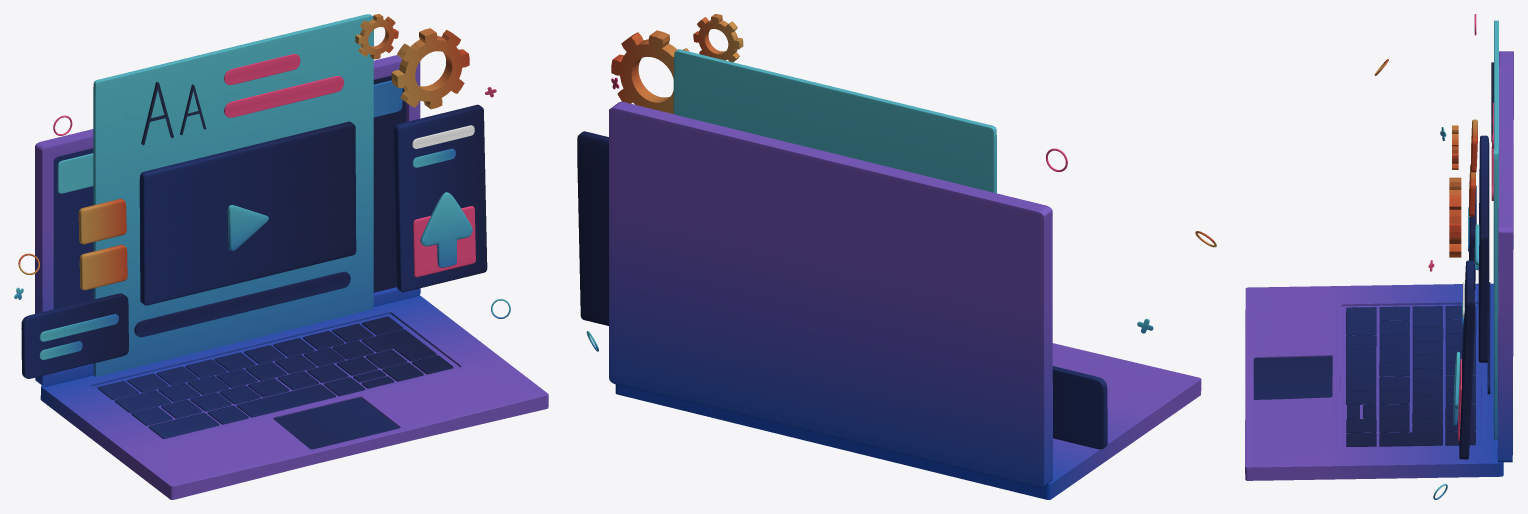
File: optimized-content-3d-animated-icon-1555009100507.glb
3 renders of one model, left to right at view 1: azimuth 30°, elevation 25°; view 2: azimuth 150°, elevation 25°; view 3: azimuth 270°, elevation 25°, orthographic. The views are drawn at different scales.
Visible parts, largest first — view 1: Paper, Cube.003, Paper.004, Cube.017, Arrow Frame, Cube.015, Cube.002, Line Frame, Paper.003, Cube.016, Gear, Arrow Frame.004 (+10 smaller); view 2: Cube.002, Paper, Cube.003, Arrow Frame, Line Frame, Gear, Gear.001; view 3: Cube.003, Cube.017, Cube.002, Cube.016, Paper.004, Paper, Arrow Frame, Gear, Arrow Frame.004, Line Frame, Cube.026, Paper.003 (+2 smaller).
Part boxes in pixels (left/top/right/bottom): Paper: left=93, top=14, right=373, bottom=376; Cube.003: left=40, top=295, right=548, bottom=499; Paper.004: left=139, top=121, right=356, bottom=305; Cube.017: left=97, top=316, right=453, bottom=438; Arrow Frame: left=393, top=104, right=487, bottom=292; Cube.015: left=53, top=75, right=406, bottom=308; Cube.002: left=35, top=55, right=420, bottom=386; Line Frame: left=21, top=293, right=128, bottom=378; Paper.003: left=134, top=271, right=350, bottom=337; Cube.016: left=273, top=397, right=399, bottom=449; Gear: left=391, top=28, right=469, bottom=109; Arrow Frame.004: left=420, top=192, right=472, bottom=267; Cube.002: left=609, top=101, right=1052, bottom=487; Paper: left=673, top=49, right=996, bottom=193; Cube.003: left=615, top=343, right=1201, bottom=499; Arrow Frame: left=577, top=131, right=608, bottom=325; Line Frame: left=1052, top=366, right=1107, bottom=449; Gear: left=611, top=30, right=689, bottom=113; Gear.001: left=693, top=14, right=743, bottom=62; Cube.003: left=1245, top=283, right=1503, bottom=480; Cube.017: left=1346, top=305, right=1476, bottom=446; Cube.002: left=1497, top=51, right=1513, bottom=462; Cube.016: left=1253, top=356, right=1332, bottom=399; Paper.004: left=1478, top=135, right=1489, bottom=362; Paper: left=1493, top=20, right=1498, bottom=439; Arrow Frame: left=1459, top=260, right=1474, bottom=459; Gear: left=1449, top=177, right=1461, bottom=257; Arrow Frame.004: left=1453, top=352, right=1460, bottom=425; Line Frame: left=1469, top=185, right=1476, bottom=289; Cube.026: left=1471, top=119, right=1477, bottom=172; Paper.003: left=1487, top=282, right=1490, bottom=394.
Bounding box in the file's own units: 7.33 × 4.46 × 3.37.
11 materials, 6 textured.
